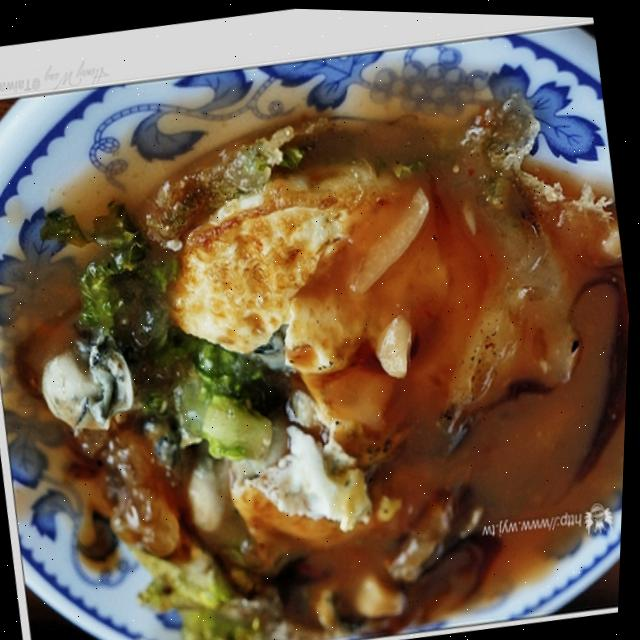熟制海鲜: (0, 33, 639, 640)
